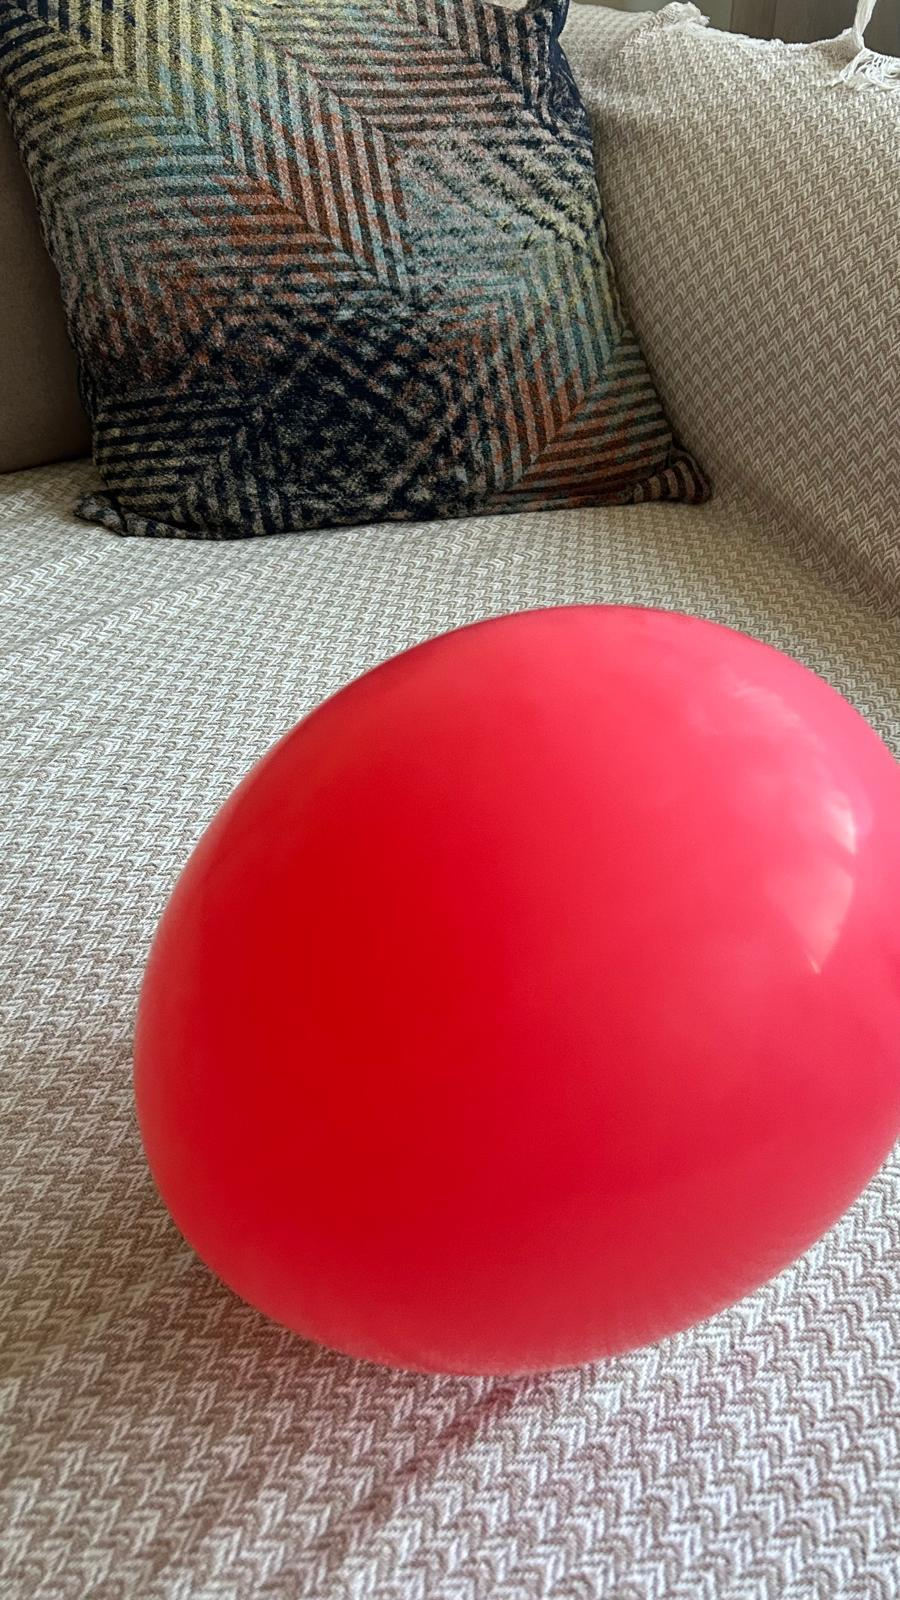red: (134, 595, 900, 1384)
